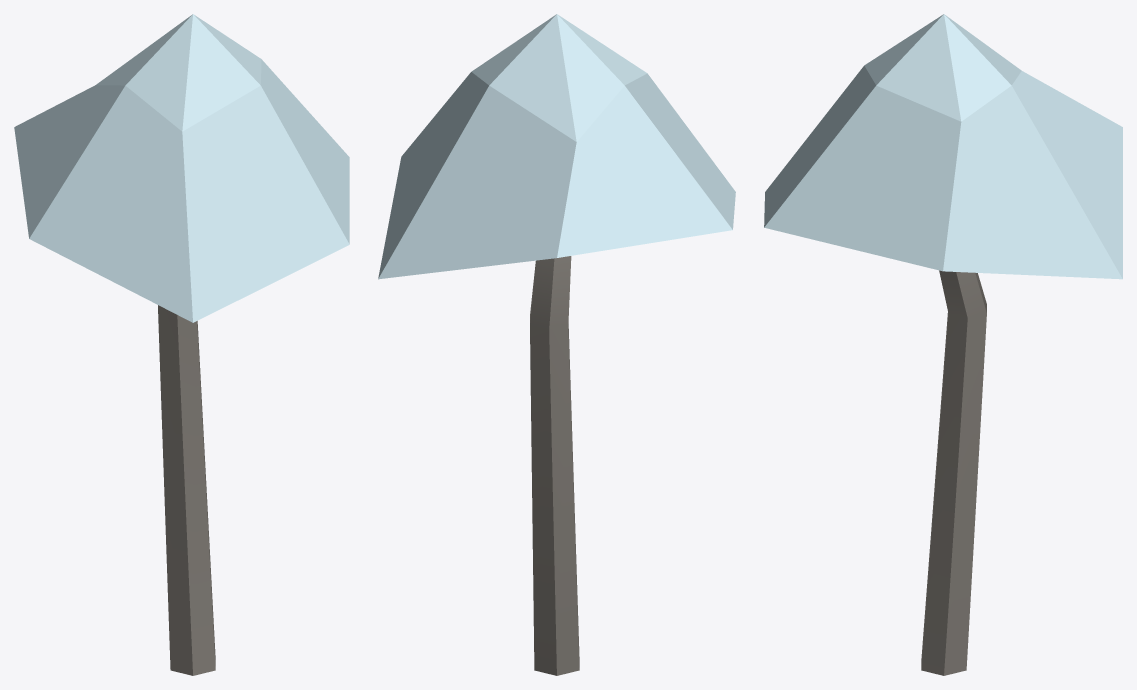
The model's file is SM_Env_Dungeon_Mushroom_01_Snow.fbx.
3 views of the same model, side by side, from view 1: azimuth 30°, elevation 25°; view 2: azimuth 150°, elevation 25°; view 3: azimuth 270°, elevation 25° (orthographic).
Visible parts, largest first — view 1: SM_Env_Dungeon_Mushroom_01_Snow; view 2: SM_Env_Dungeon_Mushroom_01_Snow; view 3: SM_Env_Dungeon_Mushroom_01_Snow.
Part boxes in pixels (x1=…): SM_Env_Dungeon_Mushroom_01_Snow: x1=14, y1=14, x2=349, y2=675; SM_Env_Dungeon_Mushroom_01_Snow: x1=378, y1=14, x2=735, y2=675; SM_Env_Dungeon_Mushroom_01_Snow: x1=764, y1=14, x2=1122, y2=675.
Size of the model in its own units: 51.93 by 99.03 by 49.47.
1 material, 1 textured.
